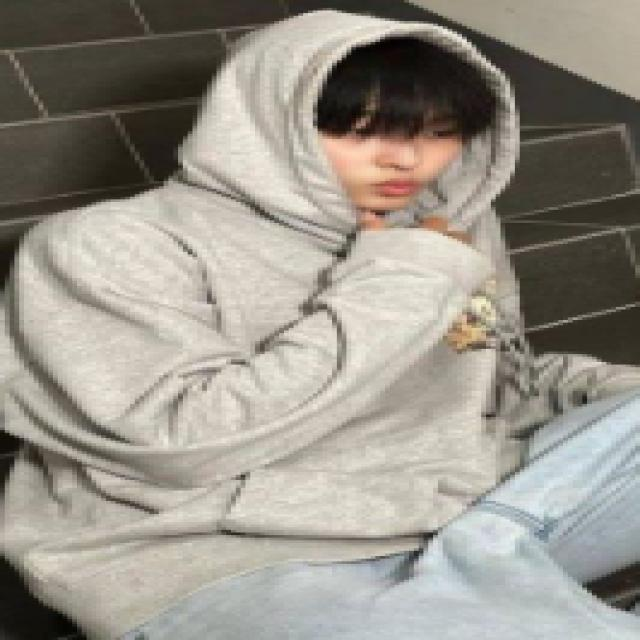4_capucha: (181, 11, 527, 220)
